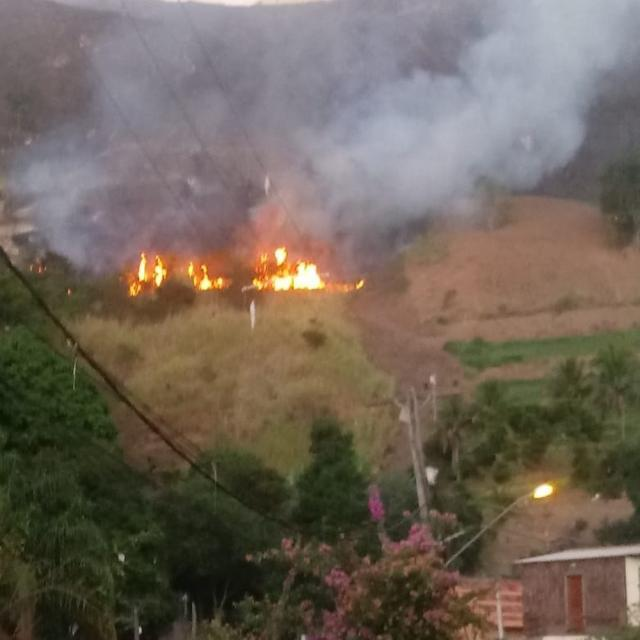Fire: (124, 253, 220, 299), (251, 253, 327, 291)
